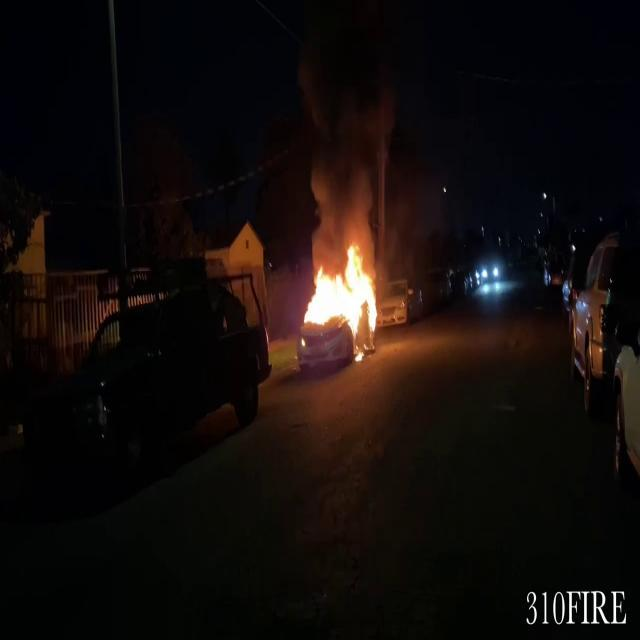Fire: (294, 235, 384, 353)
Smoke: (294, 6, 398, 249)
